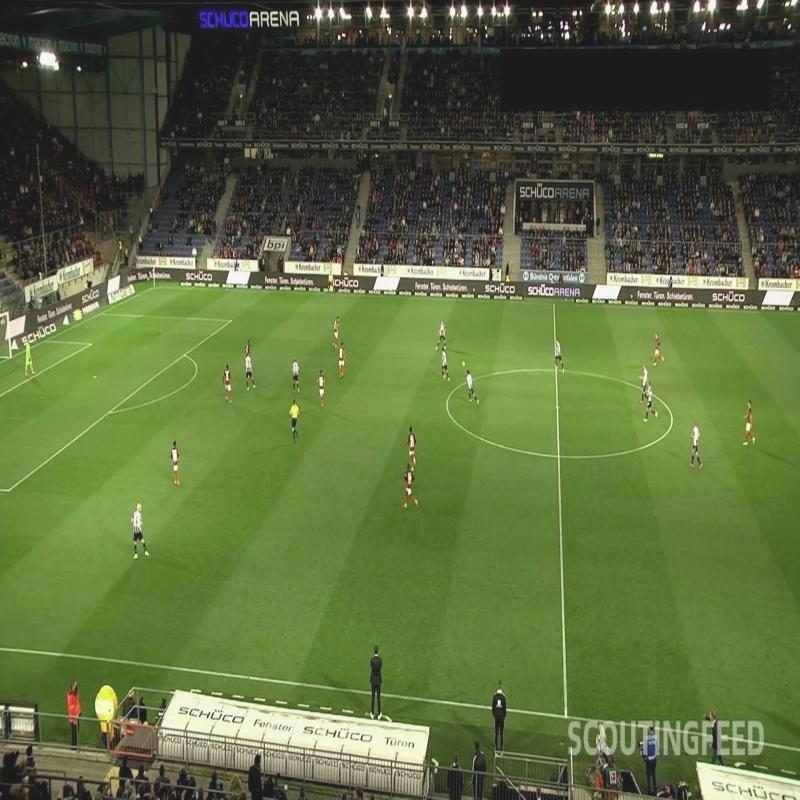1: (148, 280, 162, 294)
10: (177, 346, 192, 364)
11: (98, 403, 118, 422)
12: (1, 484, 15, 498)
13: (548, 295, 562, 309)
14: (549, 362, 563, 376)
15: (552, 447, 566, 462)
16: (554, 704, 576, 730)
2: (93, 306, 107, 320)
3: (38, 334, 52, 348)
7: (84, 337, 99, 351)
9: (224, 312, 238, 326)
c: (665, 412, 680, 428), (441, 396, 455, 410)
